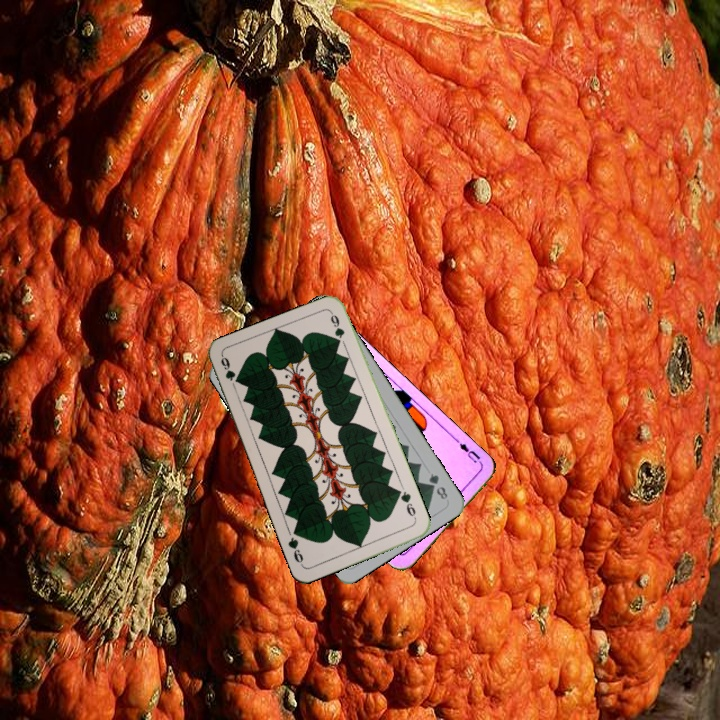EU: (452, 436, 485, 468)
G8: (424, 469, 450, 502)
G9: (393, 486, 419, 524), (217, 352, 242, 386)
